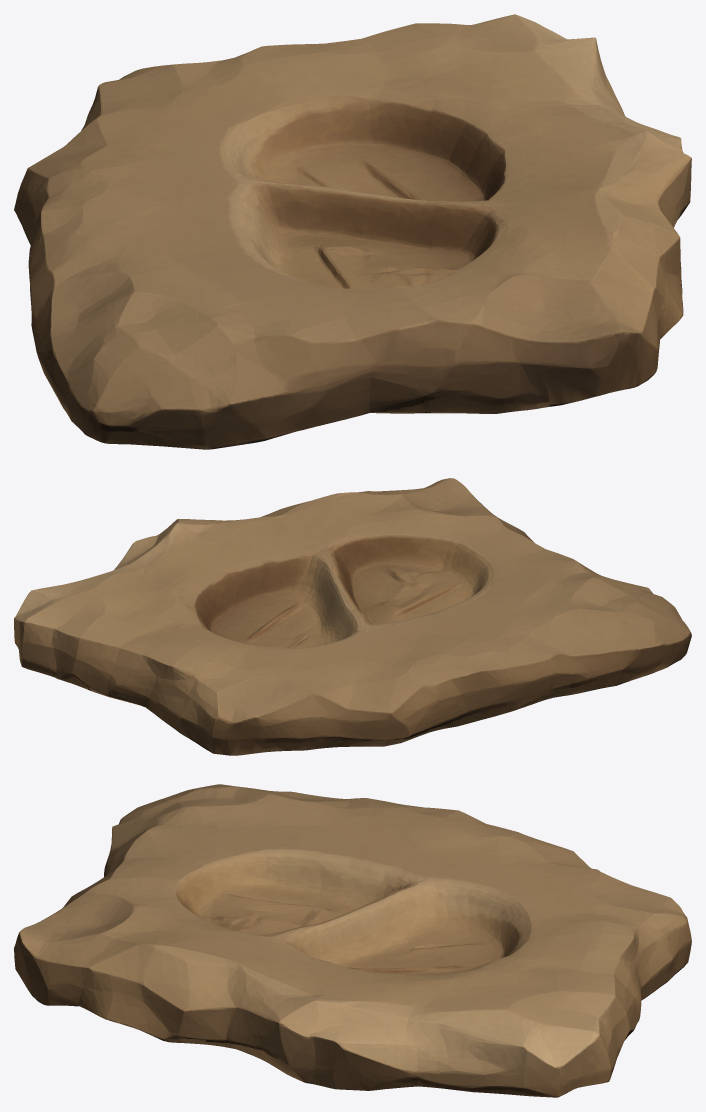
3 renders of one model, top to bottom at view 1: azimuth 30°, elevation 25°; view 2: azimuth 150°, elevation 25°; view 3: azimuth 270°, elevation 25°, orthographic. The views are drawn at different scales.
Parts seen in each view (by area): view 1: world; view 2: world; view 3: world.
Part boxes in pixels (left/top/right/bottom): world: left=14, top=14, right=691, bottom=449; world: left=14, top=478, right=691, bottom=755; world: left=14, top=784, right=691, bottom=1097.
Size of the model in its own units: 0.9981 by 0.1381 by 0.9964.
Materials: 1 (1 with a texture image).
